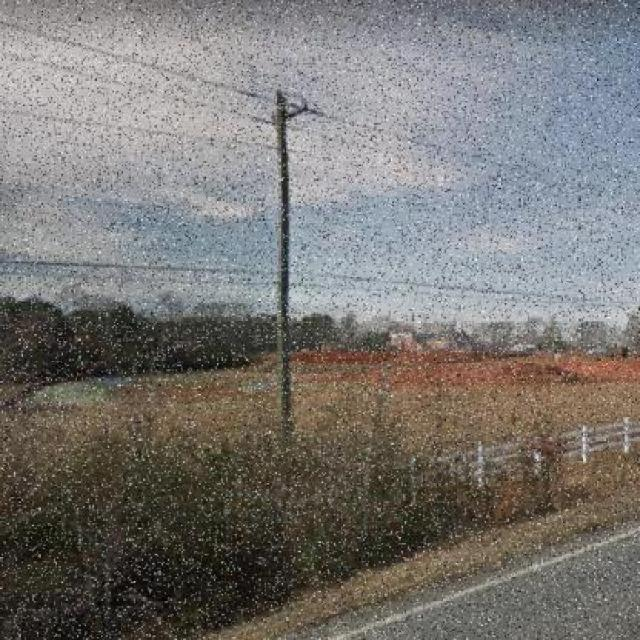pole: (158, 33, 402, 522)
